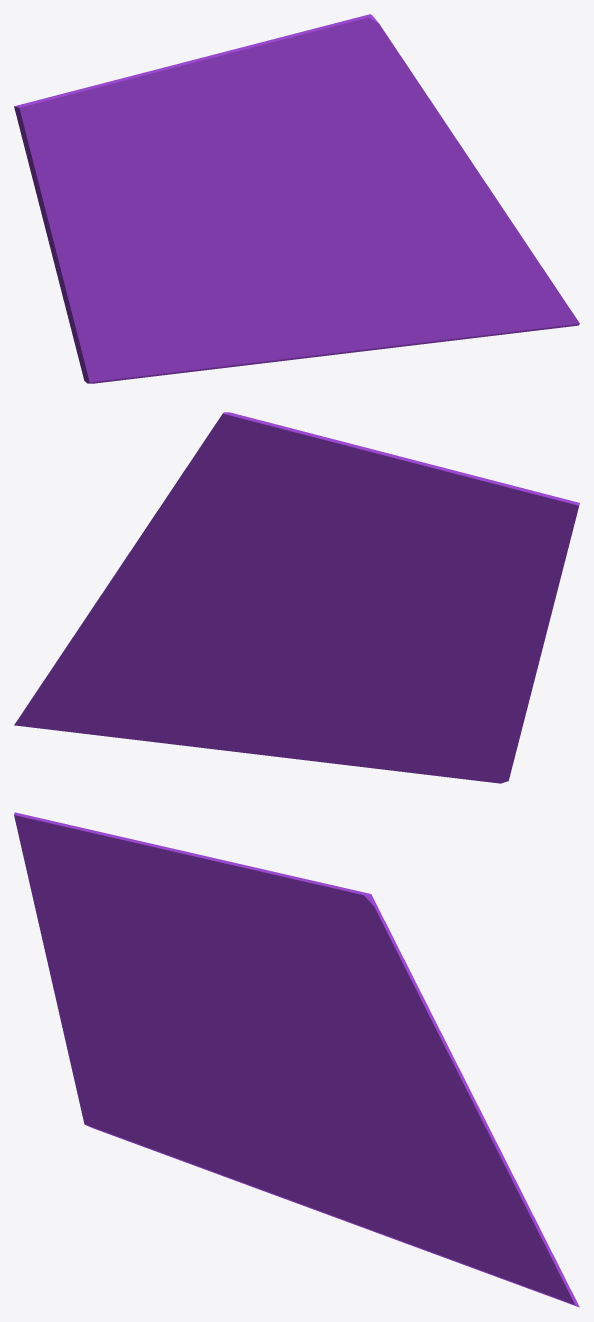
Rendered from Glass_78_3_chunks.fbx.
3 views of the same model, one above another, from view 1: azimuth 30°, elevation 25°; view 2: azimuth 150°, elevation 25°; view 3: azimuth 330°, elevation 25° (orthographic).
Parts seen in each view (by area): view 1: Glass_78_3_0, Glass_78_3_2, Glass_78_3_1; view 2: Glass_78_3_0, Glass_78_3_2, Glass_78_3_1; view 3: Glass_78_3_0, Glass_78_3_2, Glass_78_3_1.
Boxes of the visible parts, left/top/right/bottom form: Glass_78_3_0: left=14, top=27, right=323, bottom=371; Glass_78_3_2: left=298, top=14, right=579, bottom=333; Glass_78_3_1: left=81, top=220, right=506, bottom=383; Glass_78_3_0: left=272, top=424, right=579, bottom=769; Glass_78_3_2: left=14, top=412, right=291, bottom=733; Glass_78_3_1: left=86, top=619, right=511, bottom=783; Glass_78_3_0: left=14, top=812, right=321, bottom=1111; Glass_78_3_2: left=292, top=883, right=579, bottom=1307; Glass_78_3_1: left=81, top=1063, right=505, bottom=1280.
Bounding box in the file's own units: 562 × 345 × 5.32.
